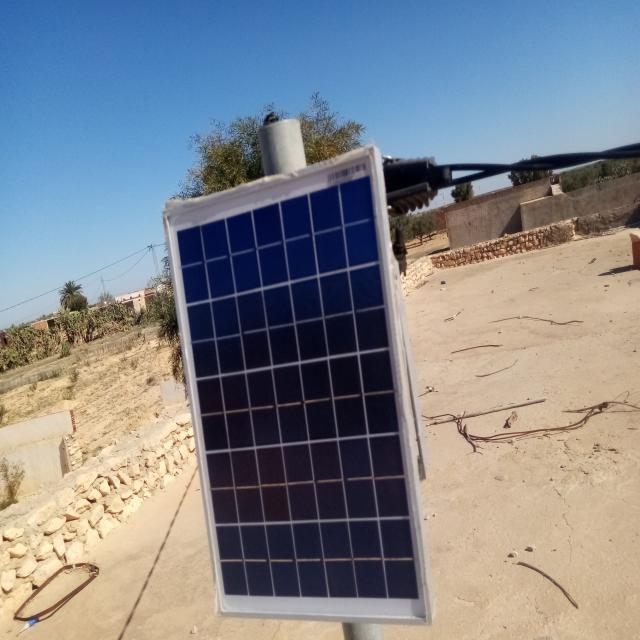no faulty: (164, 150, 432, 628)
